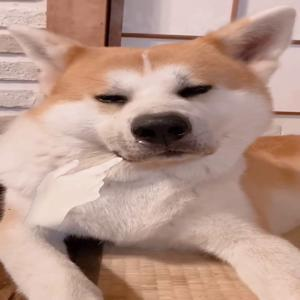nasal_discharge: (130, 119, 156, 146)
